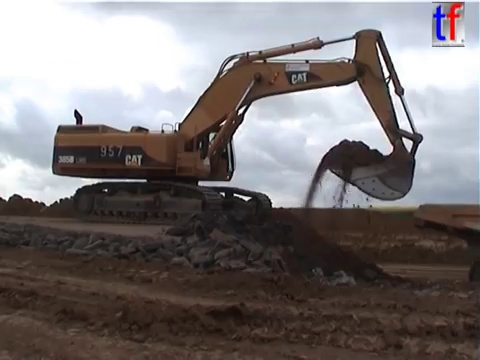excavator: (49, 26, 427, 229)
truck: (410, 201, 480, 287)
